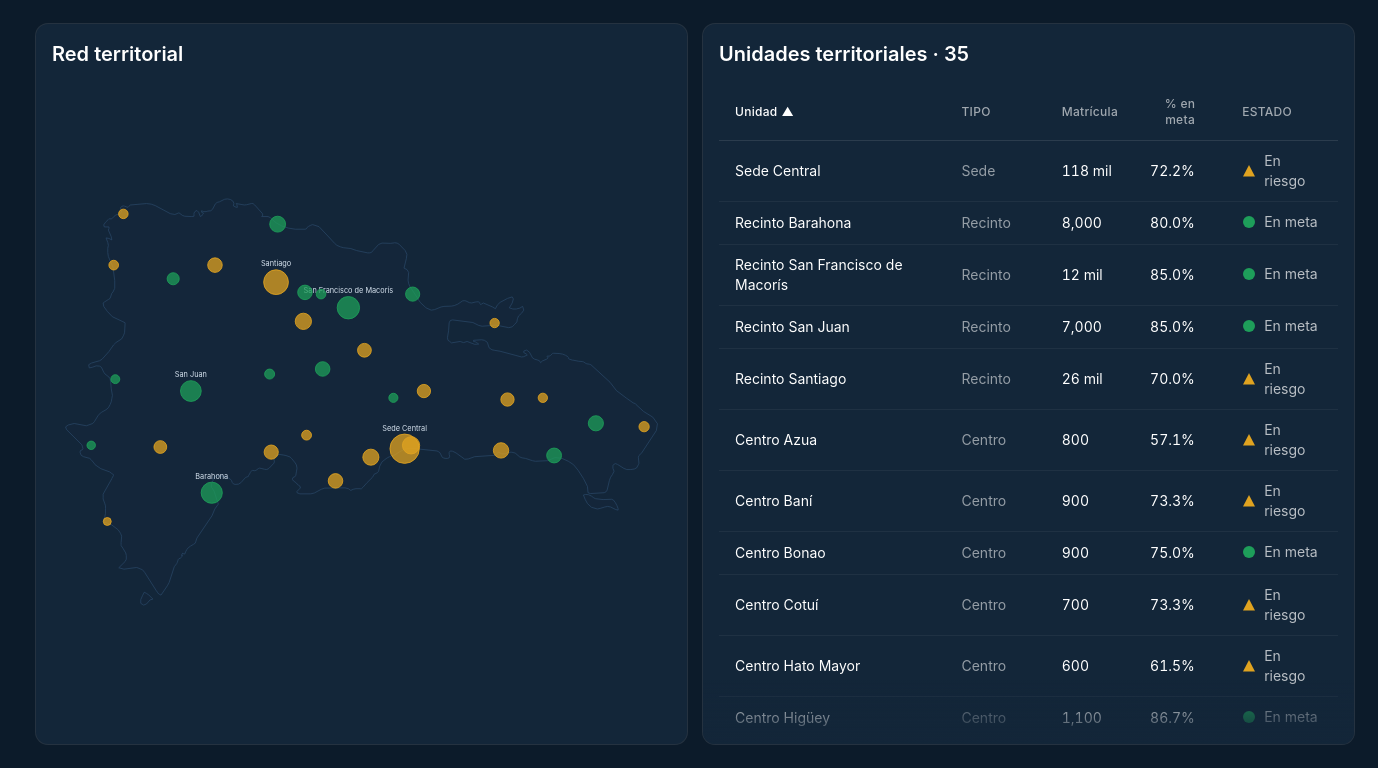
Scenario: Territorial › filtra al hacer clic en una fila
Click the row "Recinto Barahona Recinto 8,000 80.0% En meta". click: [1028, 223]
box: [719,202,1338,244]
(page scrolled)
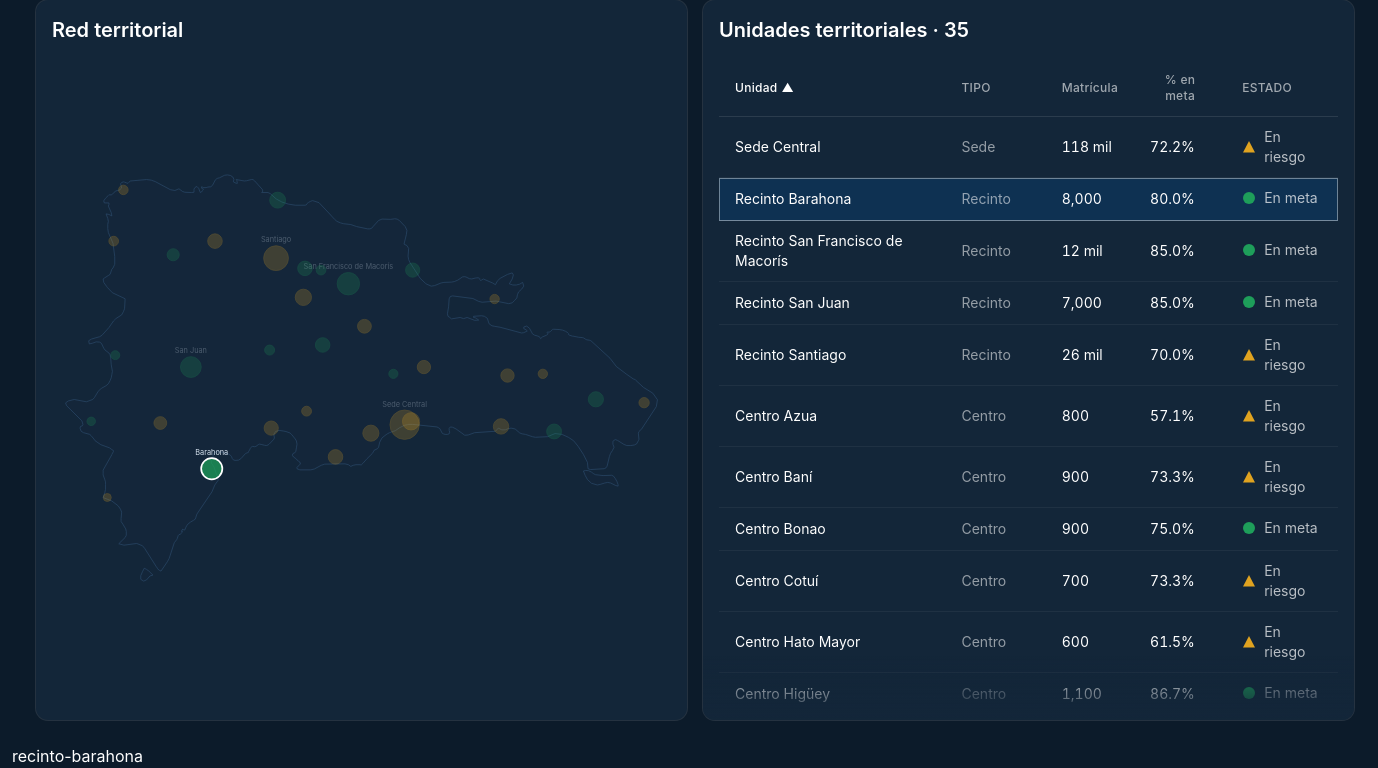
Result: the text with test id "espia" reads "recinto-barahona" at [12,746,143,766]
